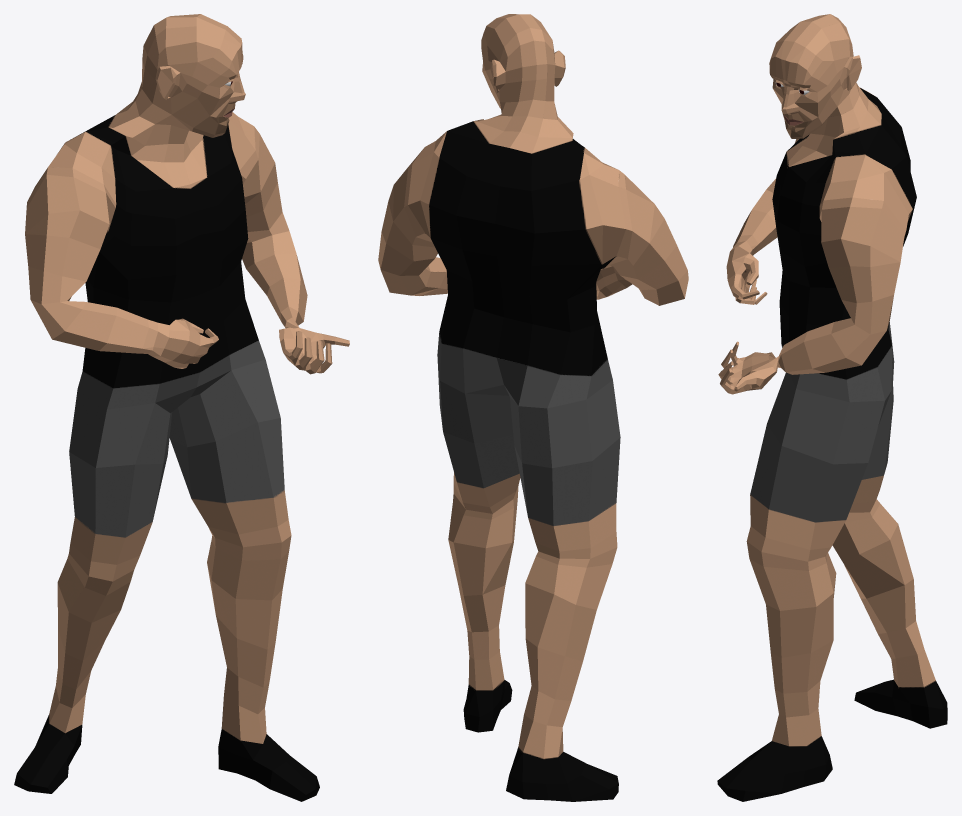
Rendered from PlayerIdle(144).obj.
The picture shows the model from 3 angles, left to right: view 1: azimuth 30°, elevation 25°; view 2: azimuth 150°, elevation 25°; view 3: azimuth 270°, elevation 25°; orthographic projection. The views are drawn at different scales.
Parts seen in each view (by area): view 1: Plane002; view 2: Plane002; view 3: Plane002.
Part boxes in pixels (x1,y1,x2,y2): Plane002: [14, 14, 349, 801]; Plane002: [378, 14, 688, 801]; Plane002: [717, 14, 947, 801].
Bounding box in the file's own units: 702 × 1790 × 505.
